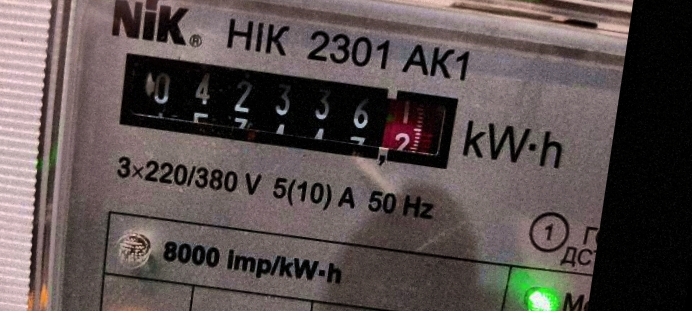0: (149, 69, 174, 106)
1: (396, 96, 413, 127)
2: (229, 77, 254, 115), (390, 129, 411, 153)
3: (270, 79, 295, 119), (308, 84, 333, 123)
4: (190, 68, 214, 107)
6: (346, 93, 373, 131)
screen: (106, 39, 468, 182)
